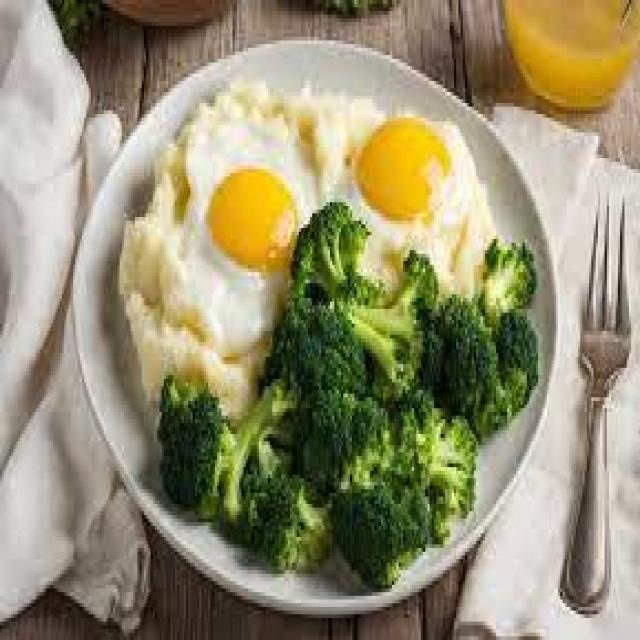Egg: (153, 77, 492, 357)
Green veg: (157, 199, 538, 585)
Potato: (117, 169, 270, 416)
